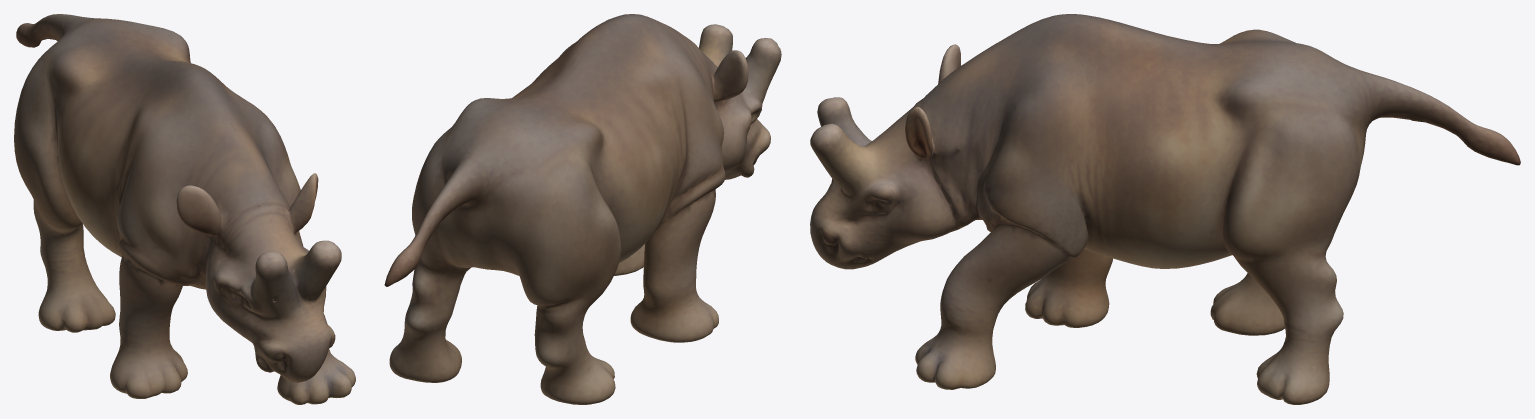
3 renders of one model, left to right at view 1: azimuth 30°, elevation 25°; view 2: azimuth 150°, elevation 25°; view 3: azimuth 270°, elevation 25°, orthographic. The views are drawn at different scales.
Visible parts, largest first — view 1: world; view 2: world; view 3: world.
Boxes of the visible parts, bbox=[...] form: world: bbox=[14, 14, 355, 404]; world: bbox=[384, 14, 781, 404]; world: bbox=[810, 14, 1520, 404].
Bounding box in the file's own units: 1.72 × 2.35 × 4.6.
1 material, 1 textured.
